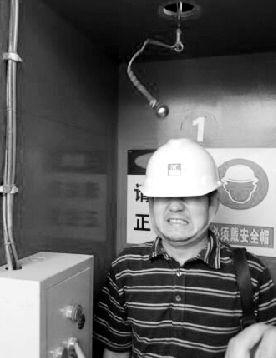helmet: (140, 138, 222, 200)
